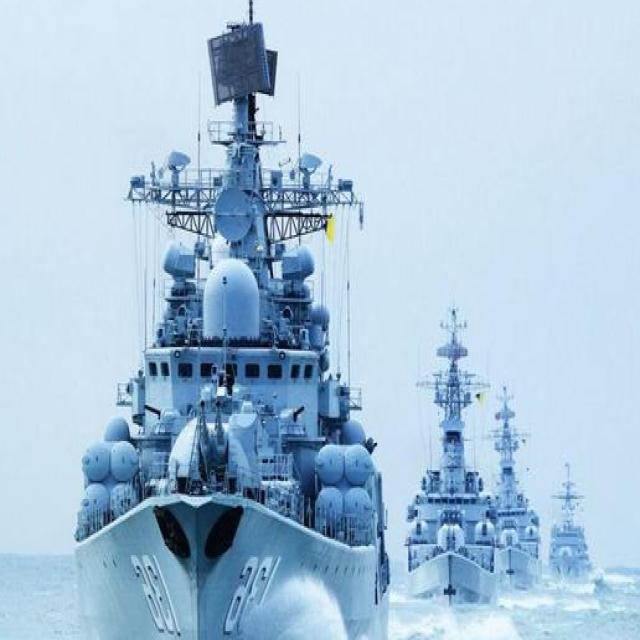navalvessels: (62, 5, 392, 640), (406, 317, 498, 619), (483, 388, 548, 583), (540, 471, 592, 593)
